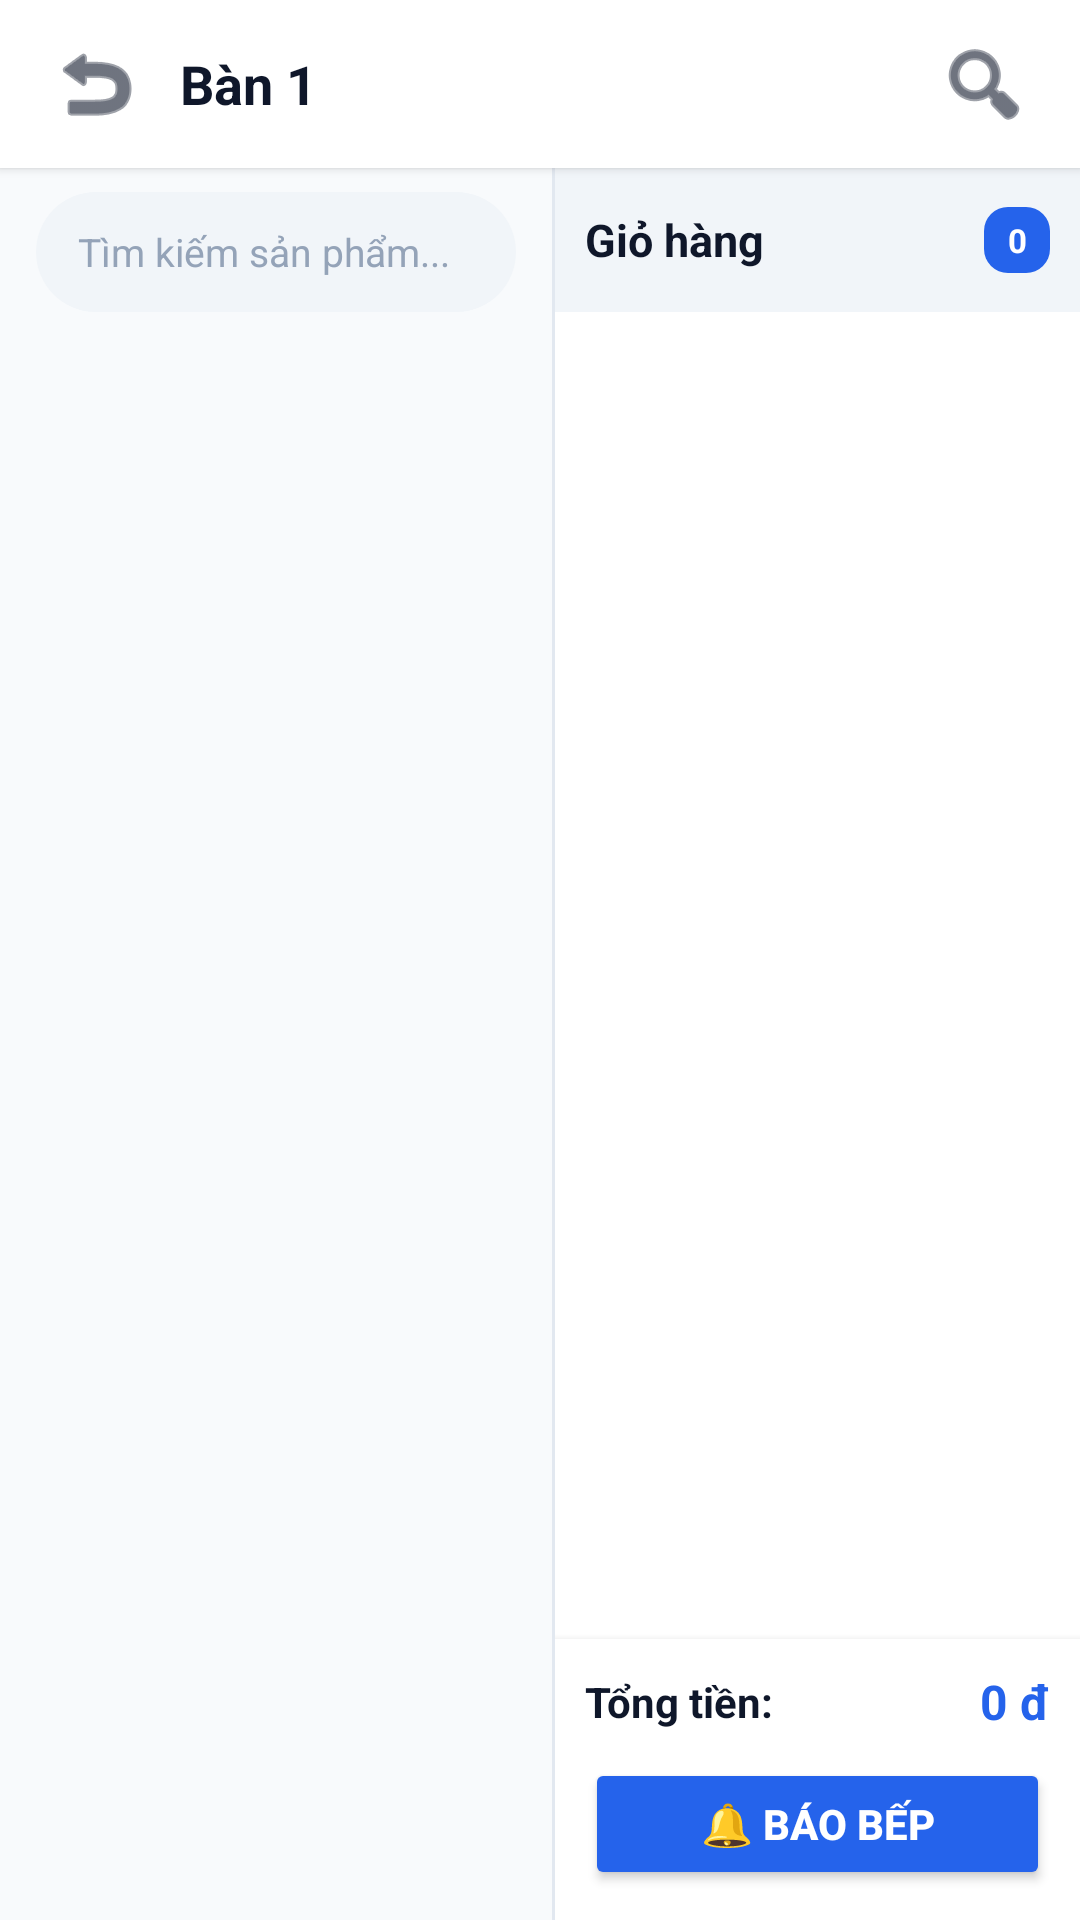

Point at icon controls on the screen. Image size 1080w x 1920h, points as [x,y].
revert: [97,84]
search: [984,84]
